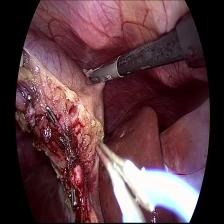Bipolar: (95, 135, 198, 224)
Grasper: (87, 56, 124, 86)
